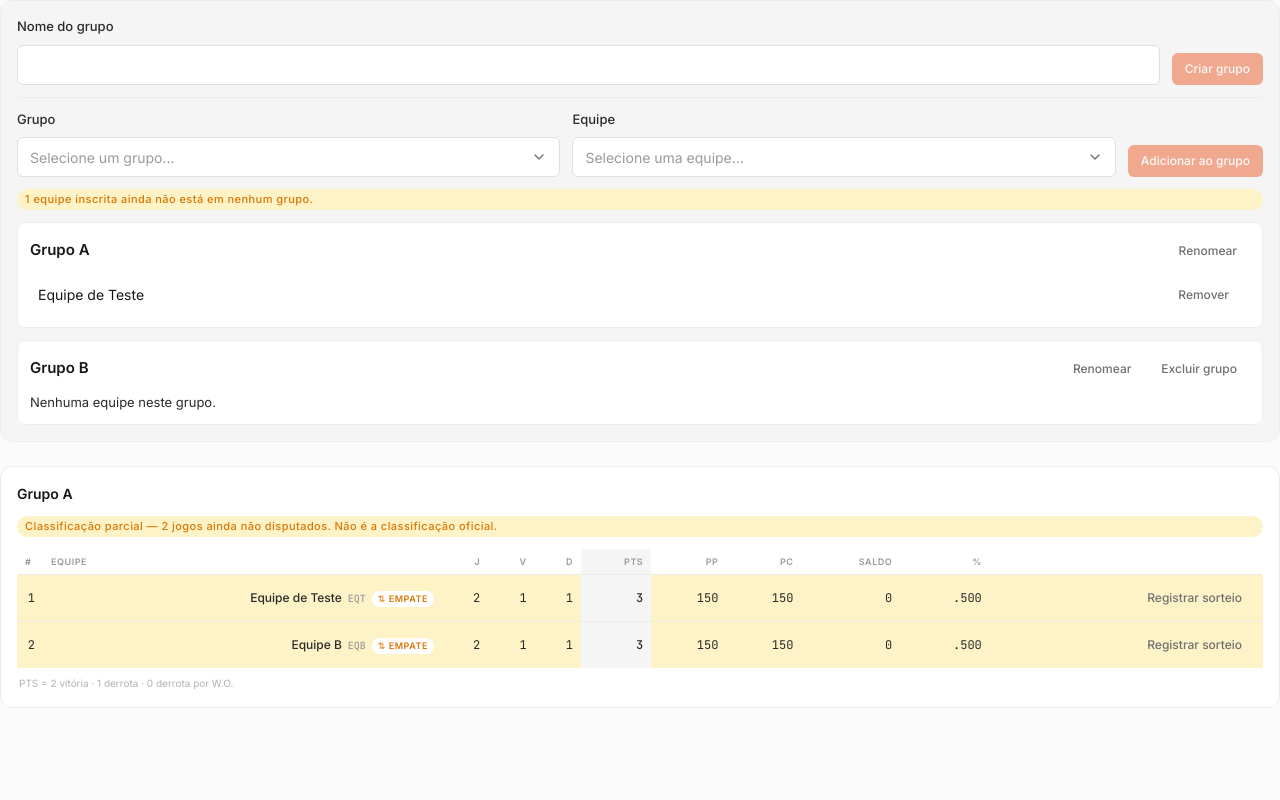
GroupsTab › explains a tied block the server no longer recognises
Click the button "Registrar sorteio" in the row of "EQT". click: (1195, 598)
box: [1134, 582, 1255, 614]
(page scrolled)
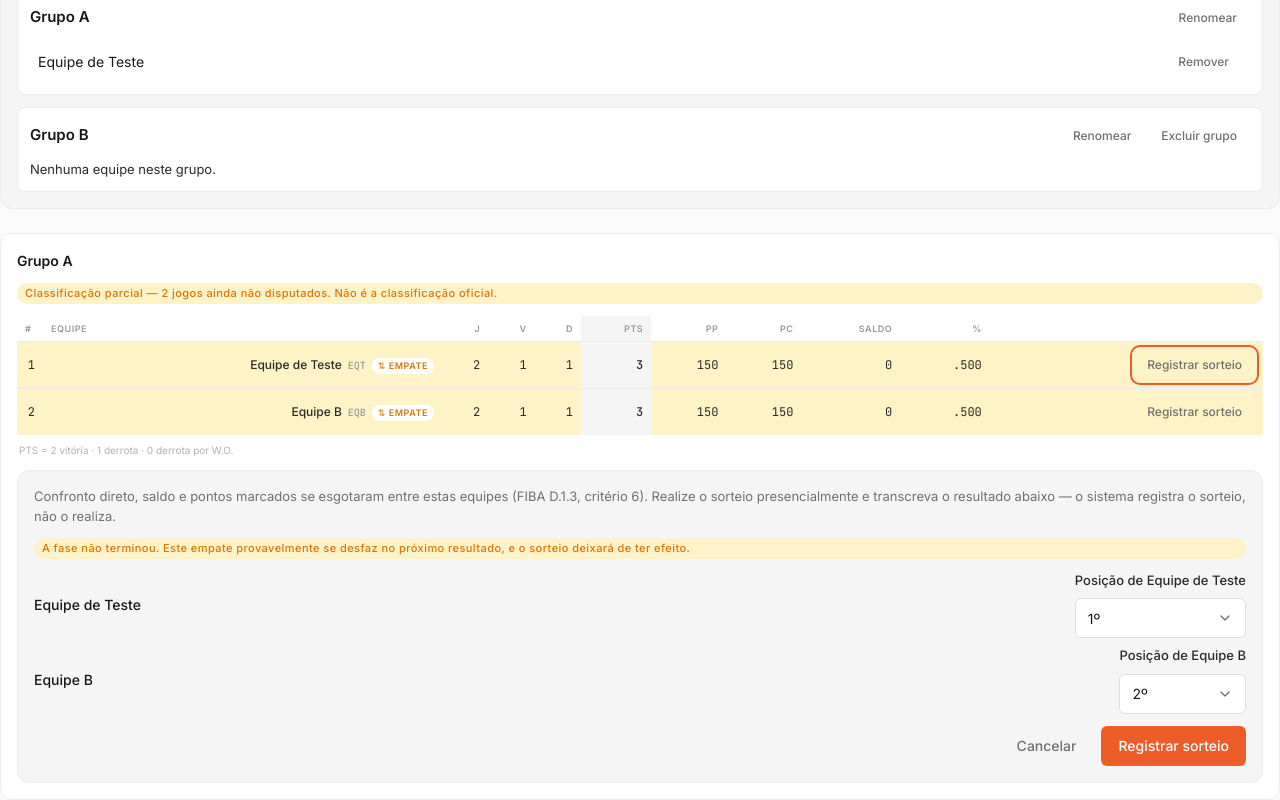
Click the button "Registrar sorteio" below "Posição de Equipe B". click: (1174, 746)
box: [1102, 726, 1246, 766]
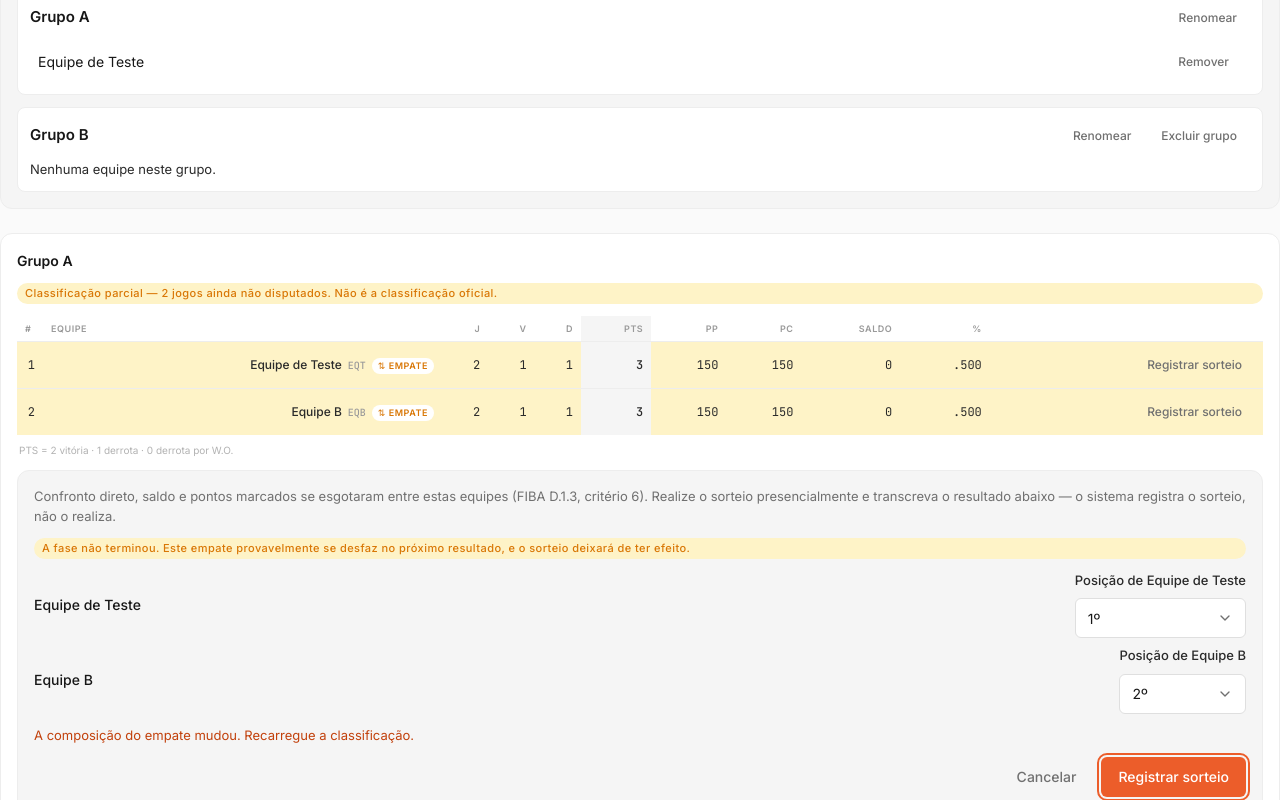
Check: the message reads "A composição do empate mudou. Recarregue a classificação.", box [34, 726, 414, 742]
